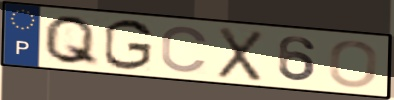6: (276, 35, 318, 83)
C: (159, 24, 211, 75)
G: (102, 17, 156, 72)
O: (326, 39, 380, 89)
Q: (41, 13, 102, 69)
X: (216, 25, 267, 84)
